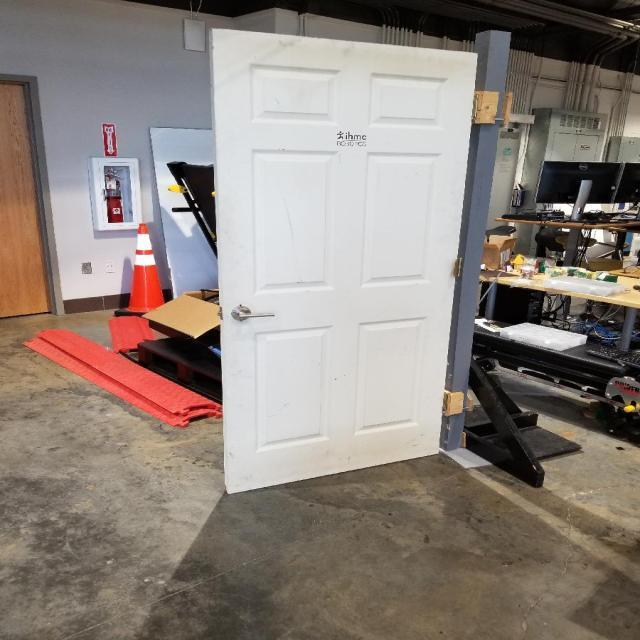door: (206, 25, 482, 498), (221, 304, 277, 326)
